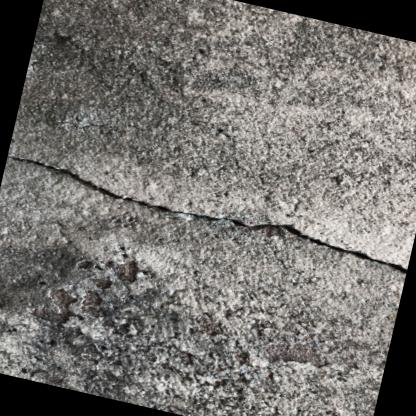crack: (6, 153, 408, 278)
